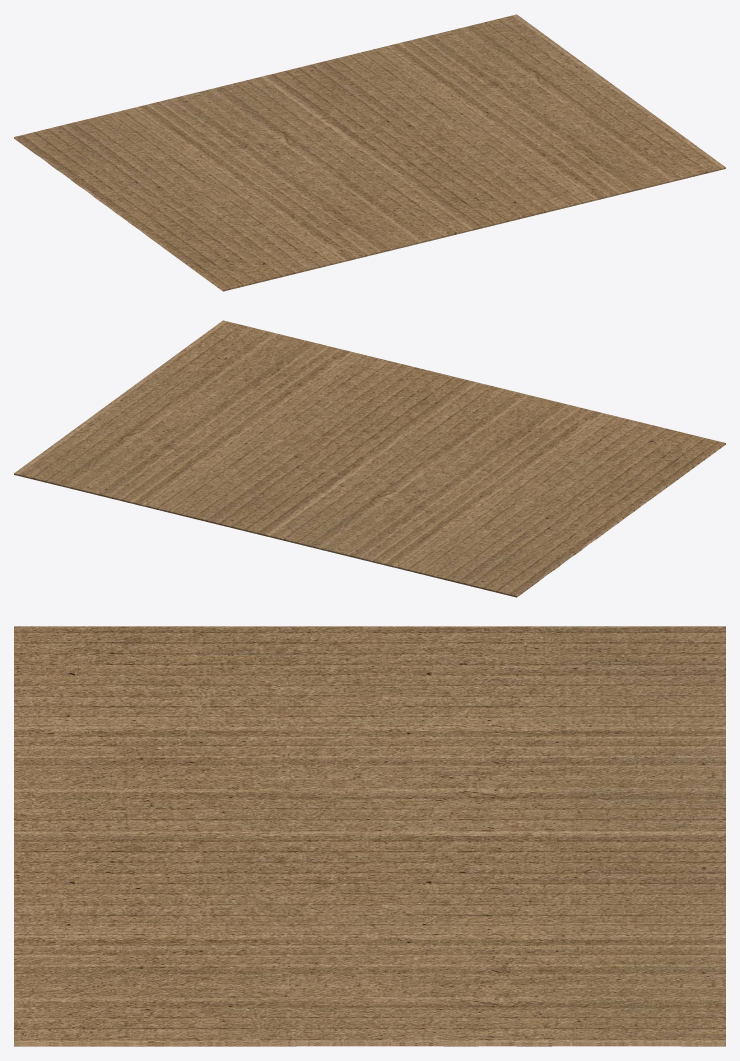
File: victory-base.glb
3 renders of one model, top to bottom at view 1: azimuth 30°, elevation 25°; view 2: azimuth 150°, elevation 25°; view 3: azimuth 270°, elevation 25°, orthographic. The views are drawn at different scales.
Parts seen in each view (by area): view 1: Plane.001; view 2: Plane.001; view 3: Plane.001.
Boxes of the visible parts, x1,y1,x2,y2 form: Plane.001: (14,14,725,291); Plane.001: (14,320,725,597); Plane.001: (14,626,725,1046).
Bounding box in the file's own units: 2.5 × 0.00706 × 1.8.
1 material, 1 textured.
